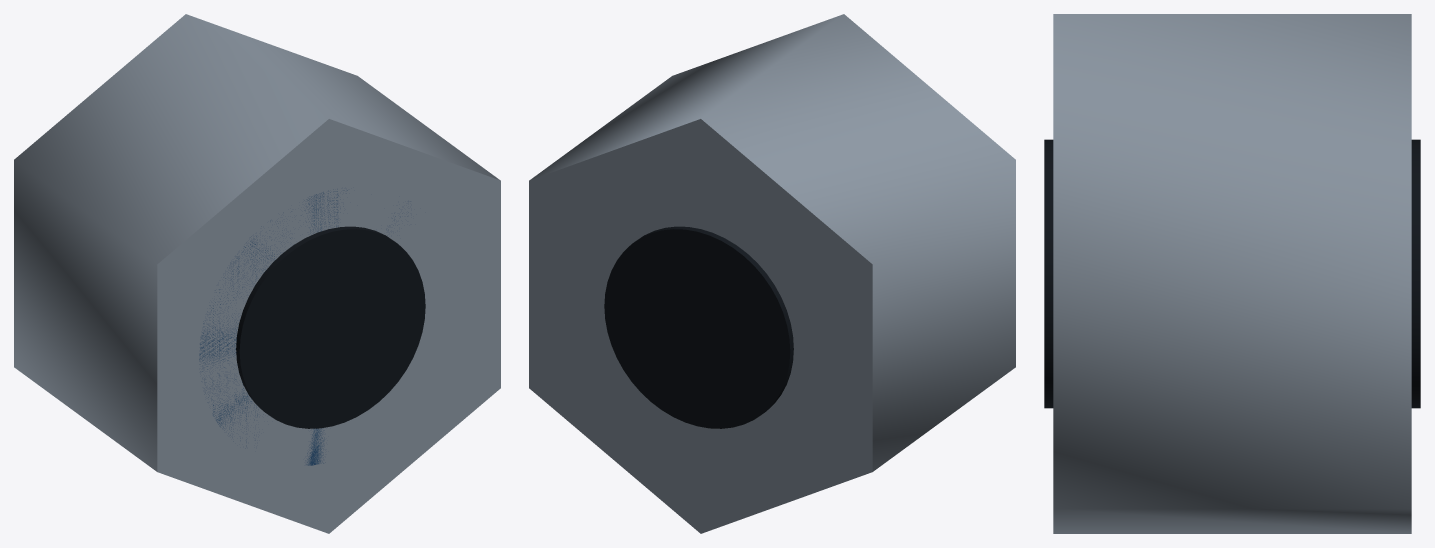
Rendered from nbk-swut-m3.glb.
The picture shows the model from 3 angles, left to right: view 1: azimuth 30°, elevation 25°; view 2: azimuth 150°, elevation 25°; view 3: azimuth 270°, elevation 25°; orthographic projection. The views are drawn at different scales.
Parts seen in each view (by area): view 1: NBK_SWUT_M3_titanium_locknut; view 2: NBK_SWUT_M3_titanium_locknut; view 3: NBK_SWUT_M3_titanium_locknut.
Part boxes in pixels (x1,y1,x2,y2): NBK_SWUT_M3_titanium_locknut: [14, 14, 500, 533]; NBK_SWUT_M3_titanium_locknut: [529, 14, 1015, 533]; NBK_SWUT_M3_titanium_locknut: [1044, 14, 1420, 533].
Size of the model in its own units: 0.00554 by 0.0064 by 0.0042.
